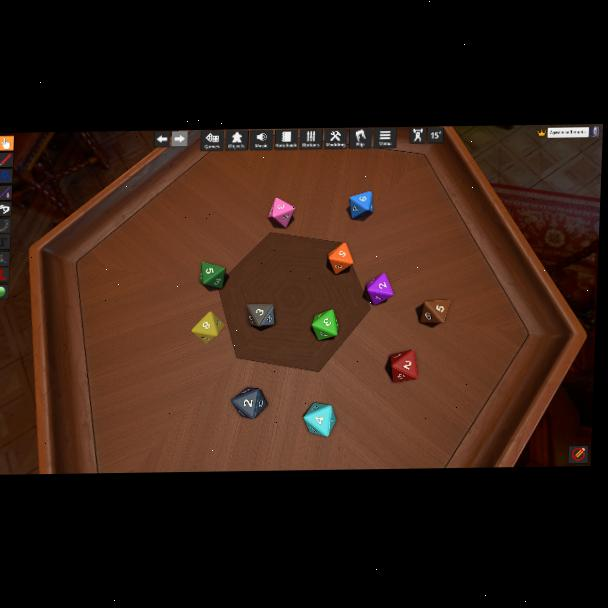d8: (231, 387, 269, 419), (303, 403, 336, 437), (191, 312, 224, 344), (268, 197, 296, 228), (393, 350, 420, 381), (327, 243, 353, 275), (311, 310, 338, 340), (367, 273, 394, 303), (419, 299, 449, 324), (200, 262, 226, 289), (348, 191, 372, 220), (246, 303, 275, 327)
